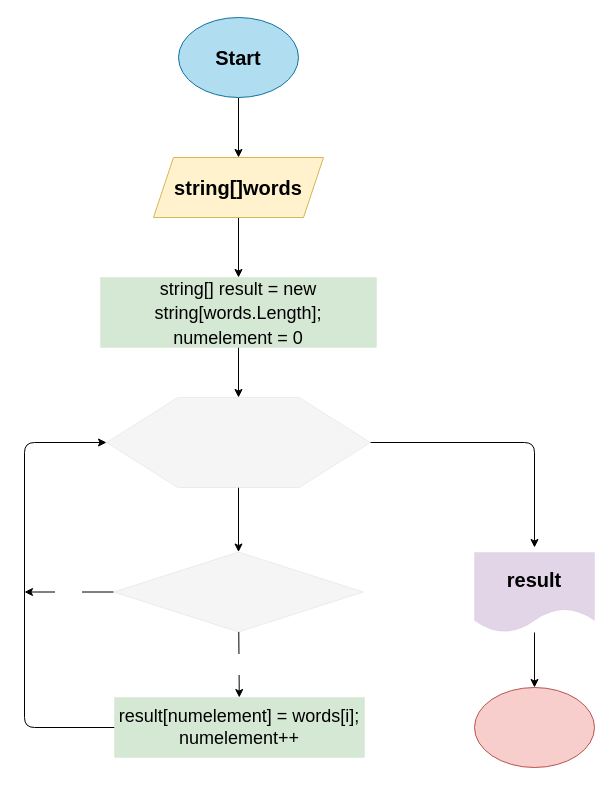
This 612x785 diagram has some shape labels left out. Here are the shapes that lost their labels. From the top down, the box of each, then its label:
(106, 397, 370, 487): i = 0; i < words.Length; i++
(113, 552, 363, 632): words[i].Length <= 3
(474, 686, 594, 768): End
